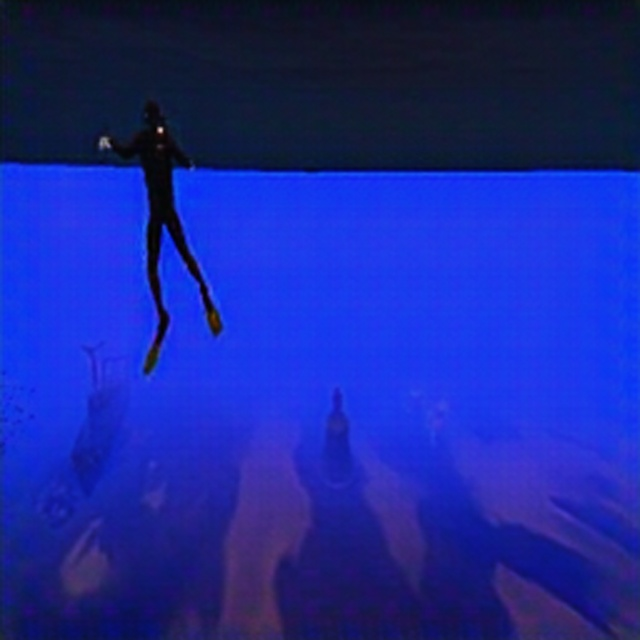diver: (97, 97, 223, 345)
